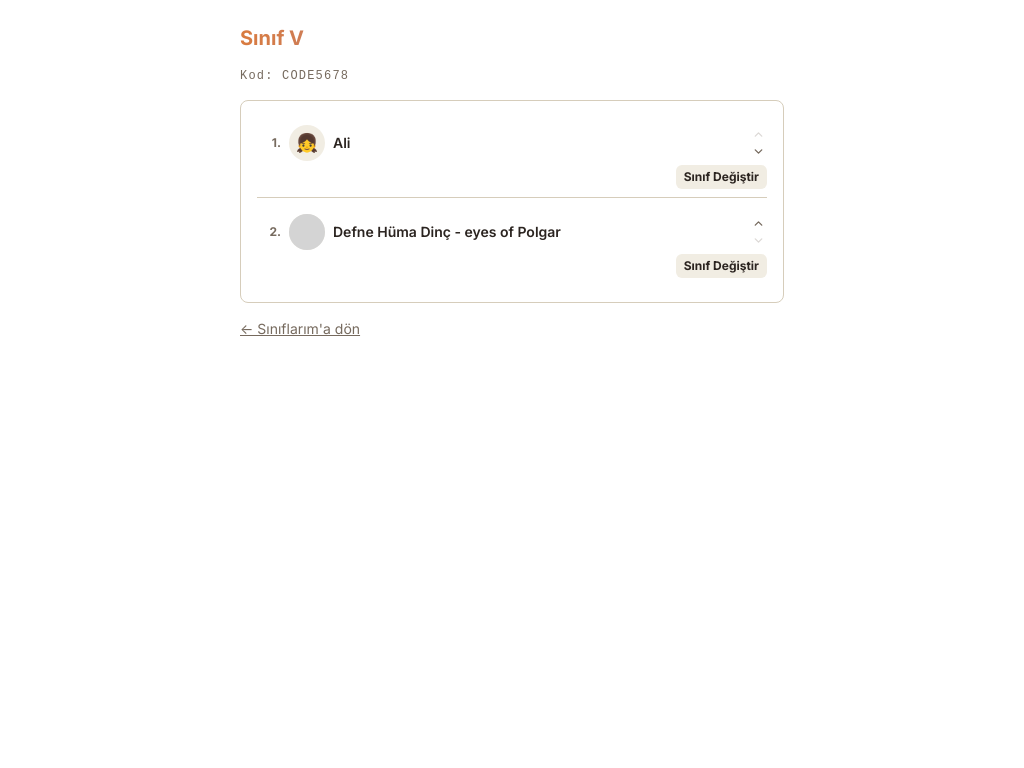
Test: Sınıf Değiştir (madde 4) › başka sınıf seçilmeden Kaydet'e basılırsa hata gösterir, çağrı yapılmaz
Check: the text "Ali" is shown, box [333,133,350,153]
Click the 1st button "Sınıf Değiştir". click: click(721, 177)
box: [676,165,767,189]
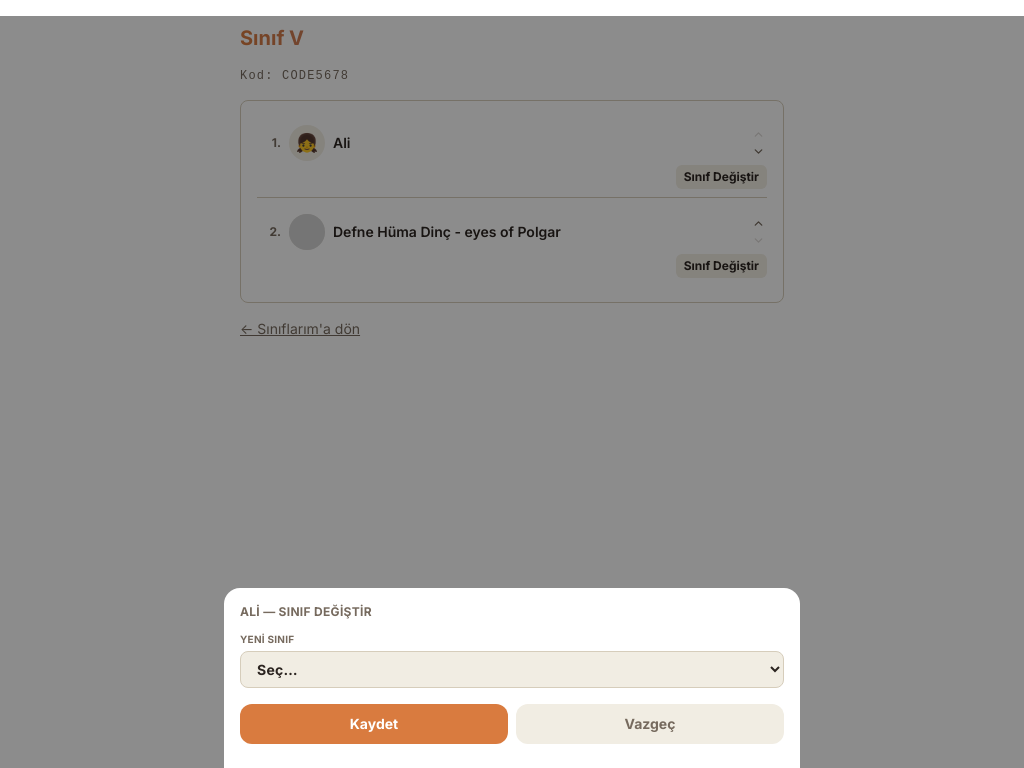
Click the button "Kaydet". click: click(374, 724)
box: [240,704,508,744]
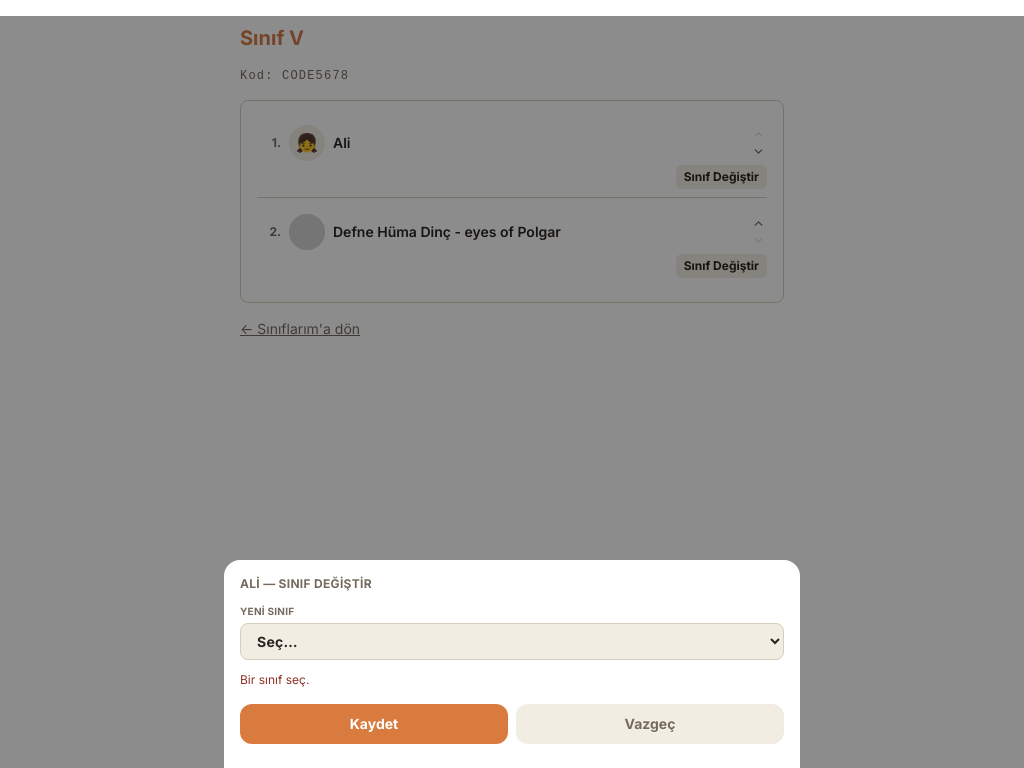
Check: the text "Bir sınıf seç." is shown, box [240,672,309,687]
